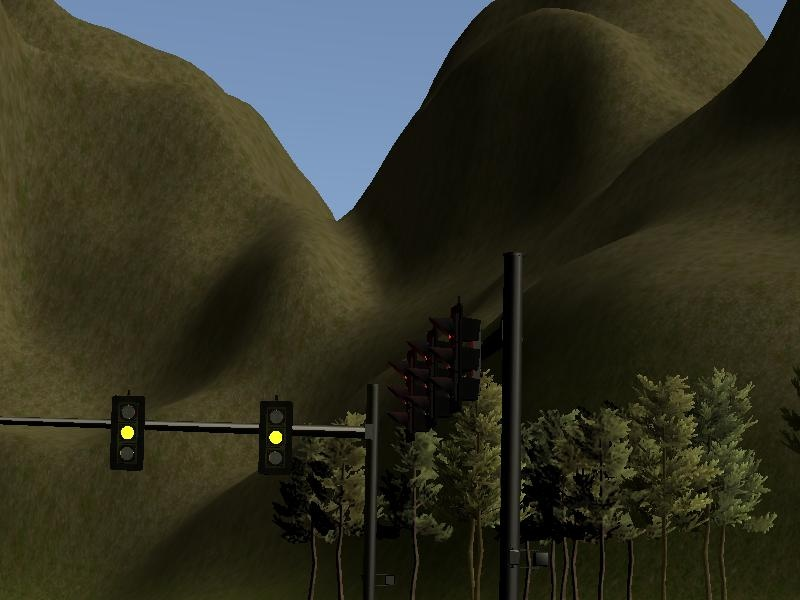YELLOW: (107, 392, 144, 468), (256, 398, 293, 474)
